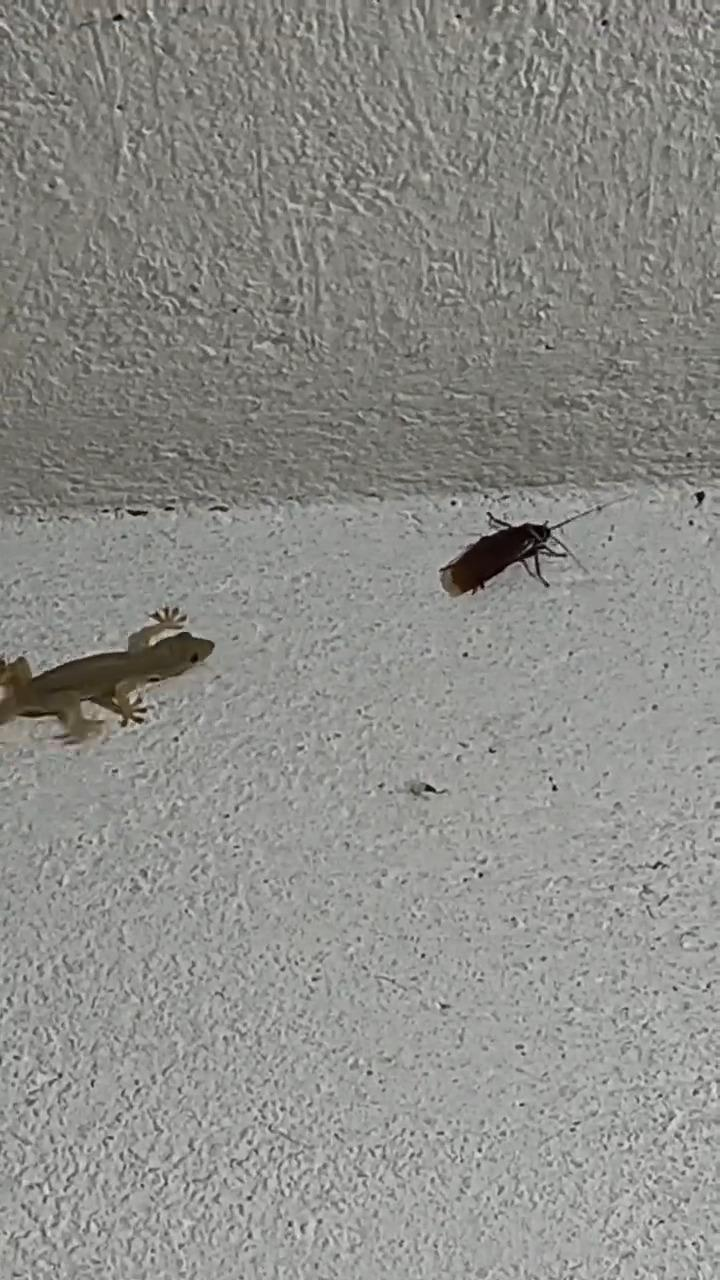cockroach: (408, 488, 637, 608)
lizard: (3, 583, 217, 758)
